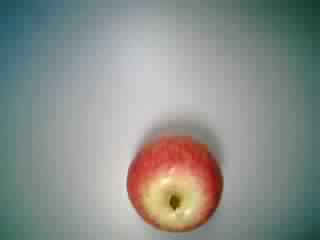apple: (120, 131, 225, 233)
